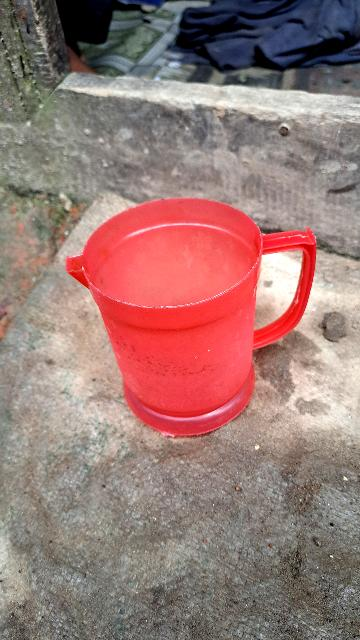hardplastic: (85, 198, 301, 439)
